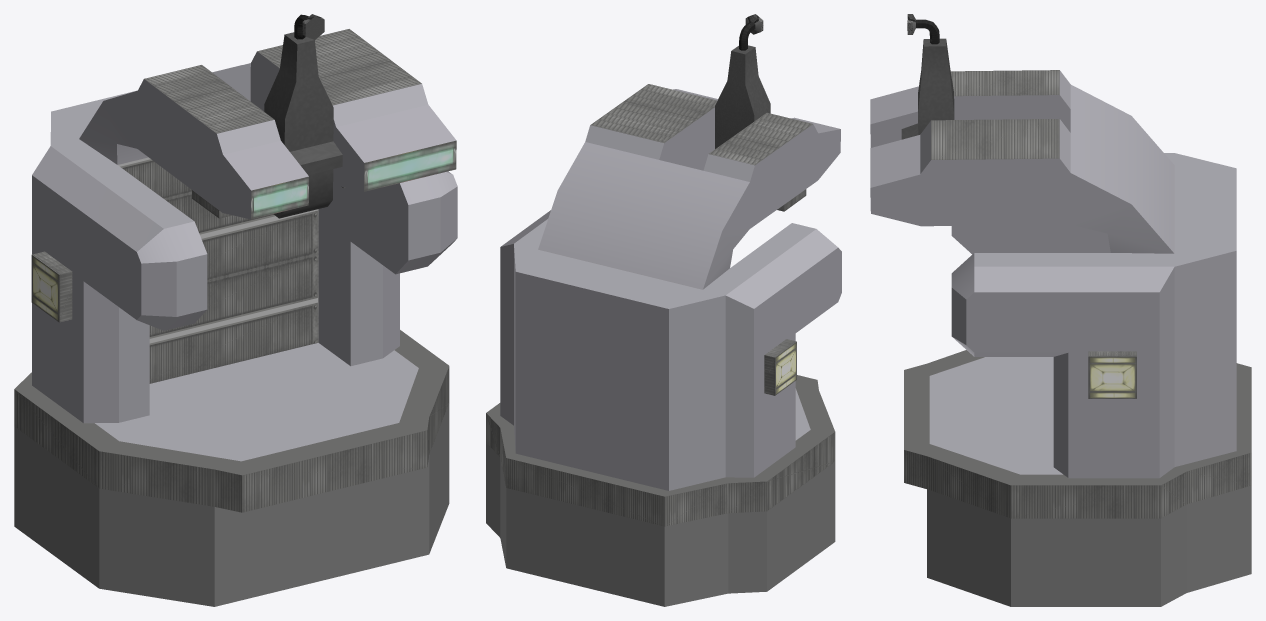
File: Container_Loader.FBX
3 views of the same model, side by side, from view 1: azimuth 30°, elevation 25°; view 2: azimuth 150°, elevation 25°; view 3: azimuth 270°, elevation 25° (orthographic). The views are drawn at different scales.
Parts seen in each view (by area): view 1: Container_Loader_Mesh, Container_Loader_Jack; view 2: Container_Loader_Mesh, Container_Loader_Jack; view 3: Container_Loader_Mesh, Container_Loader_Jack.
Part boxes in pixels (<box>): Container_Loader_Mesh: <box>14,29,457,606</box>; Container_Loader_Jack: <box>264,14,342,218</box>; Container_Loader_Mesh: <box>486,84,841,606</box>; Container_Loader_Jack: <box>715,14,770,148</box>; Container_Loader_Mesh: <box>870,70,1251,606</box>; Container_Loader_Jack: <box>901,14,954,139</box>.
Bounding box in the file's own units: 134 × 210 × 143.
